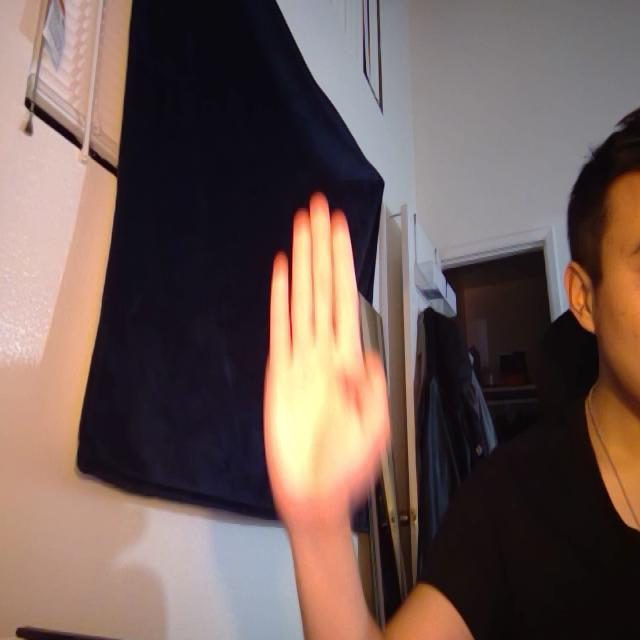B: (234, 159, 489, 533)
